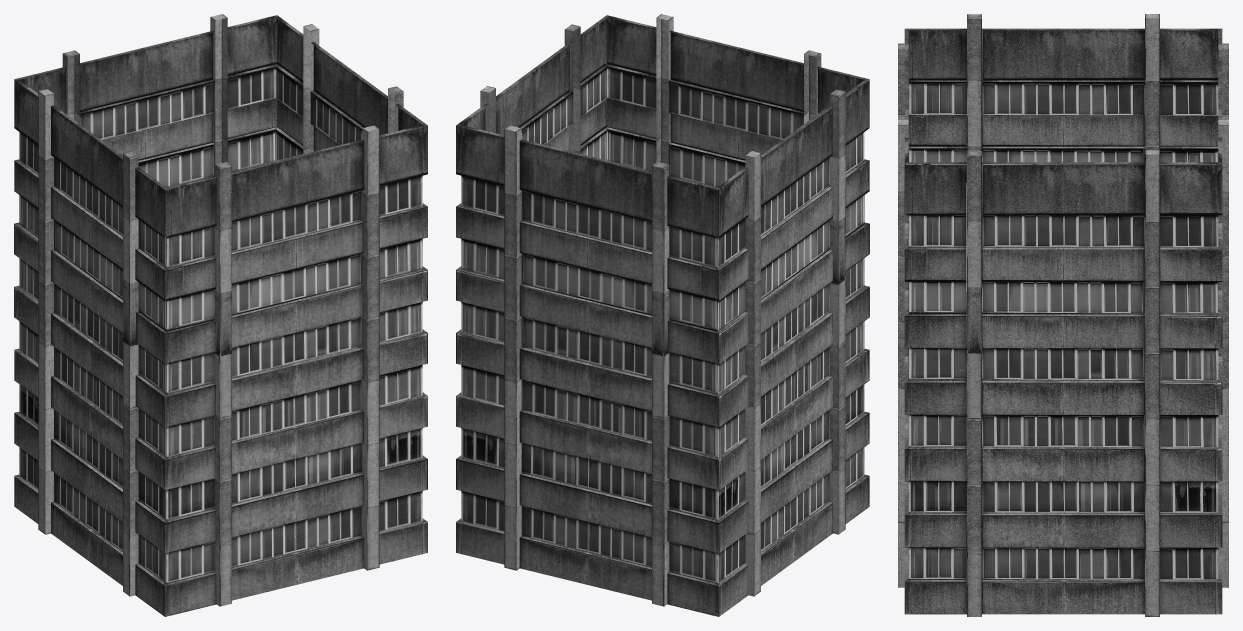
The model's file is apartment_building.fbx.
The picture shows the model from 3 angles, left to right: view 1: azimuth 30°, elevation 25°; view 2: azimuth 150°, elevation 25°; view 3: azimuth 270°, elevation 25°; orthographic projection. The views are drawn at different scales.
Visible parts, largest first — view 1: apartment_building001; view 2: apartment_building001; view 3: apartment_building001.
Boxes of the visible parts, bbox=[...] form: apartment_building001: bbox=[14, 14, 427, 616]; apartment_building001: bbox=[456, 14, 869, 616]; apartment_building001: bbox=[898, 14, 1228, 616].
Size of the model in its own units: 1704 by 2609 by 1693.
